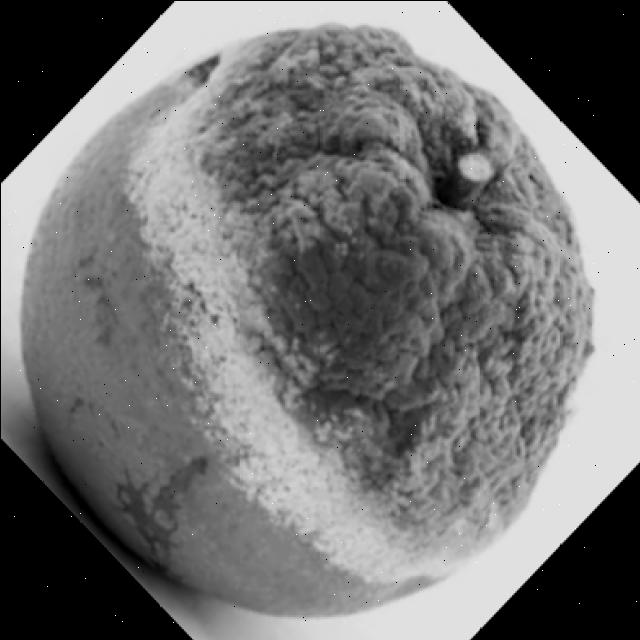Rotten: (22, 24, 598, 616)
